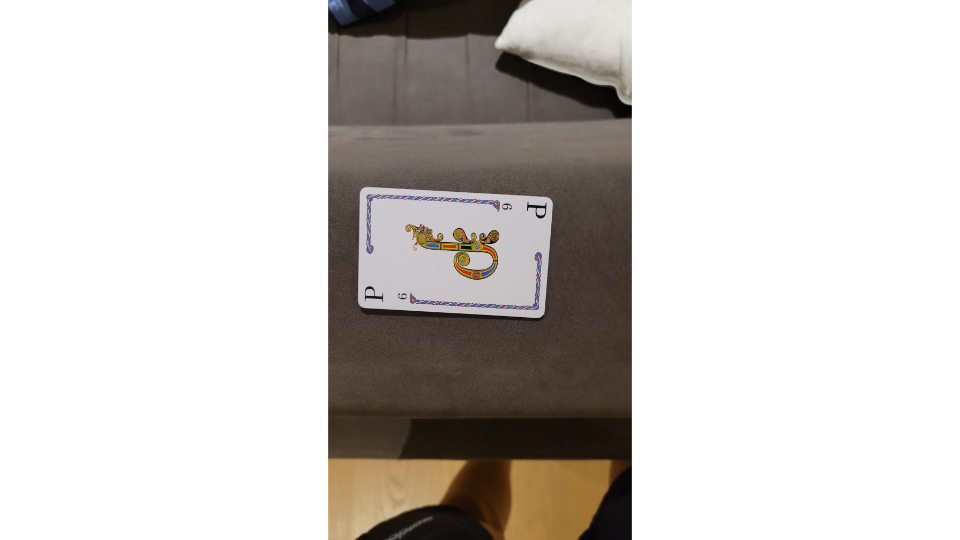P: (355, 182, 557, 323)
